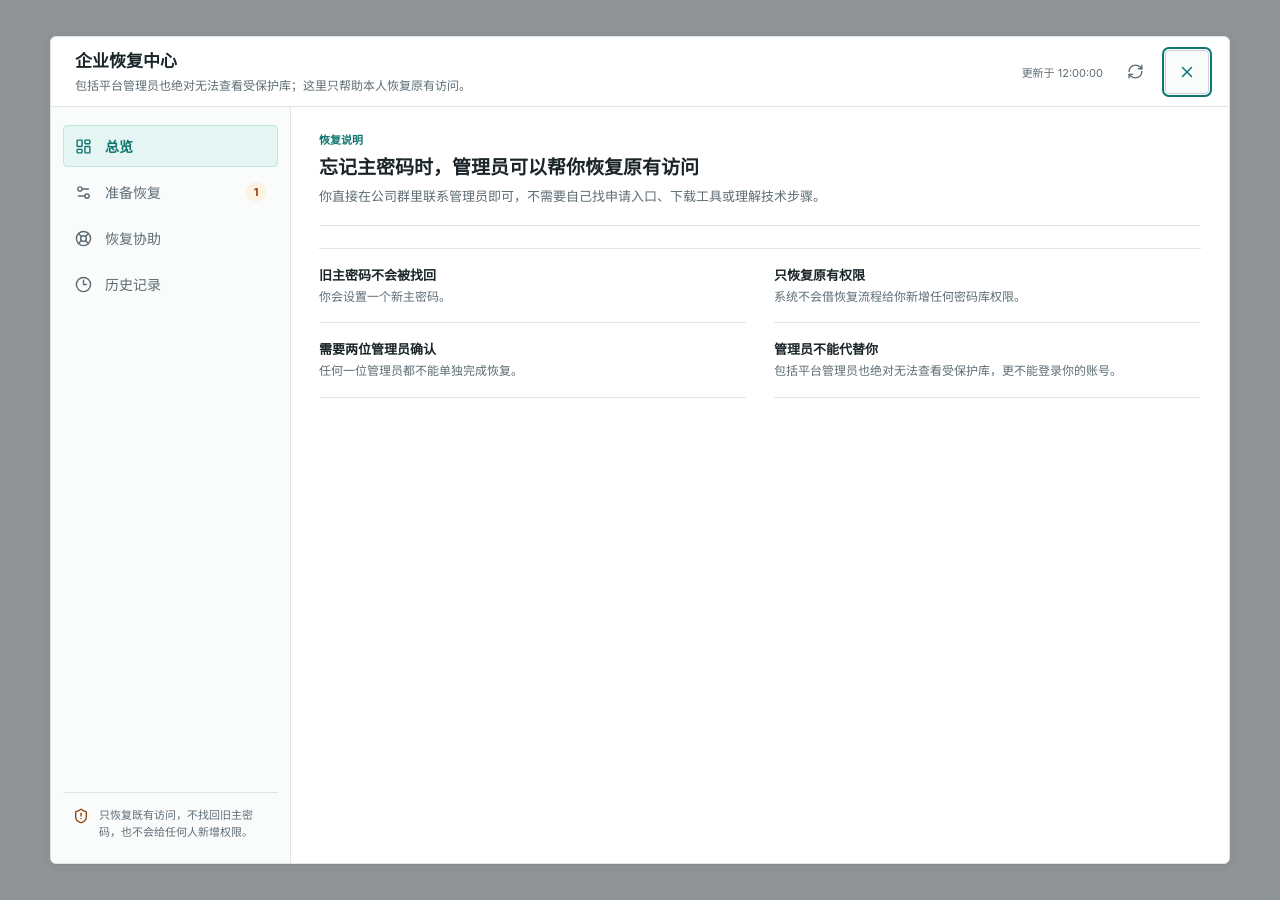
Test: enterprise recovery center › uses one workspace snapshot and fixed sections for administrators
Expected: the heading "企业恢复中心" is shown, [75,50,177,70]
Expected: the button "总览" is shown, [63,125,278,167]
Click the button "准备恢复 1".
click(170, 192)  # box [63,171,278,213]
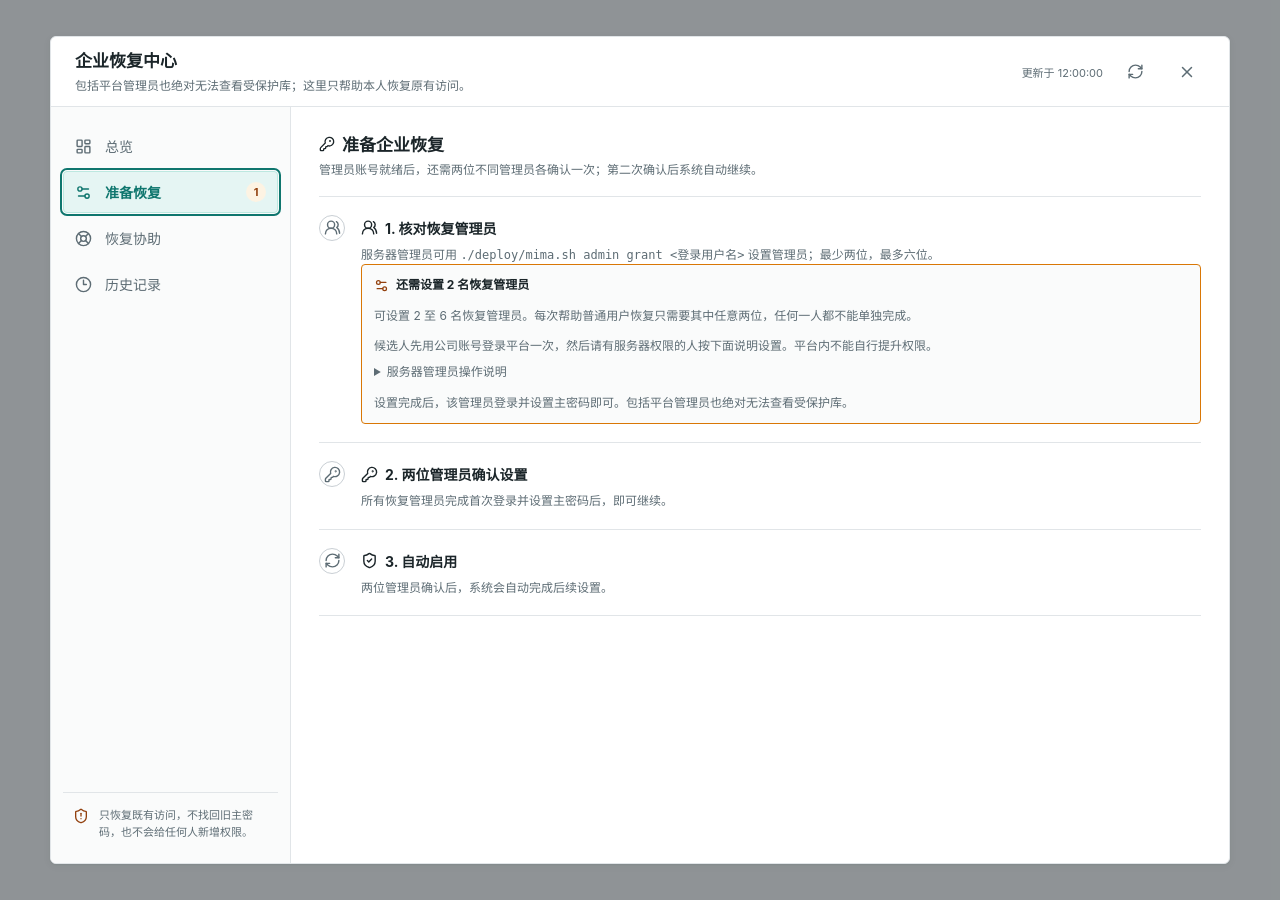
Expected: the heading "准备企业恢复" is shown, [319,135,444,155]
Expected: the text "还需设置 2 名恢复管理员" is shown, [374,277,529,293]
